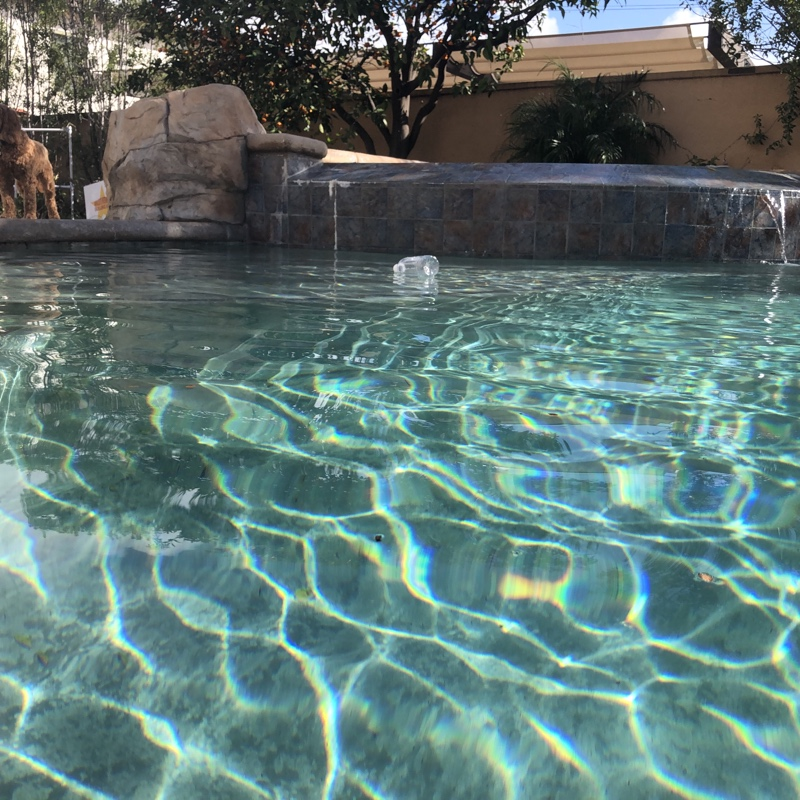Plastic Bottle: (392, 253, 440, 277)
